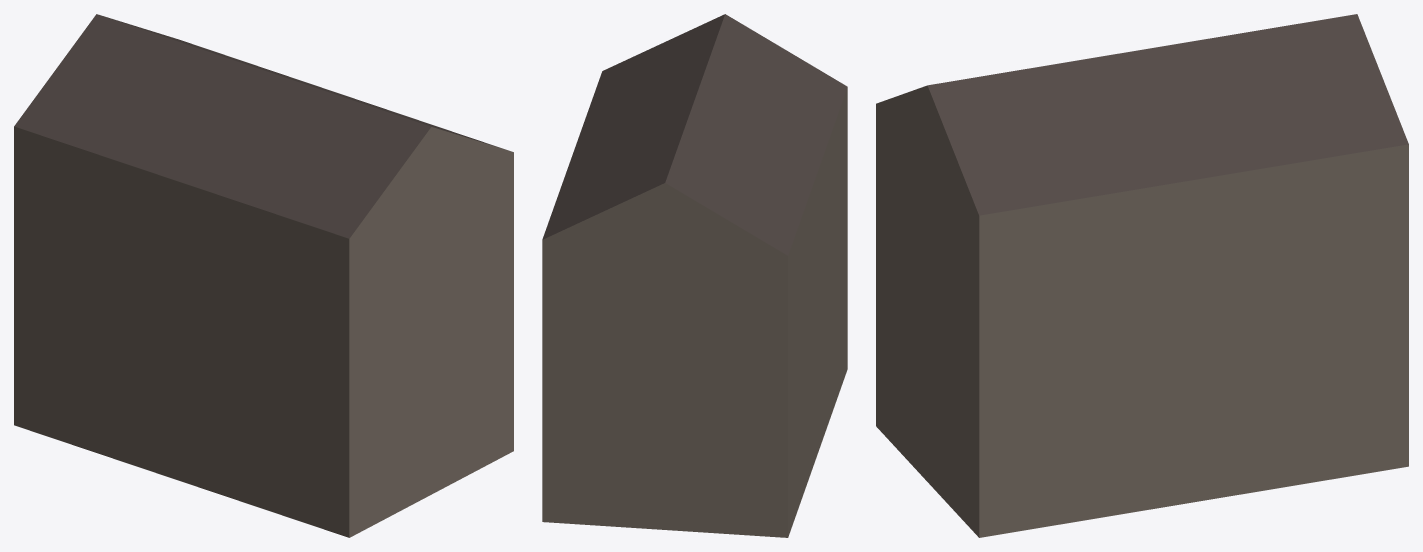
3 renders of one model, left to right at view 1: azimuth 30°, elevation 25°; view 2: azimuth 150°, elevation 25°; view 3: azimuth 270°, elevation 25°, orthographic. The views are drawn at different scales.
Visible parts, largest first — view 1: HP-w783664822; view 2: HP-w783664822; view 3: HP-w783664822.
Boxes of the visible parts, box(x1,y1,x2,y2) form: HP-w783664822: box(14, 14, 513, 537); HP-w783664822: box(542, 14, 847, 537); HP-w783664822: box(876, 14, 1408, 537).
Size of the model in its own units: 7.32 by 7.38 by 8.99.
